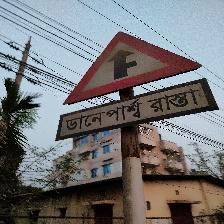Side-road-right: (57, 31, 218, 142)
